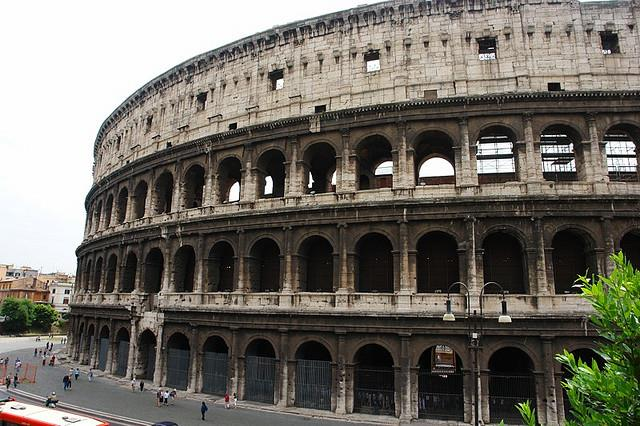Colosseum: (95, 4, 626, 401)
